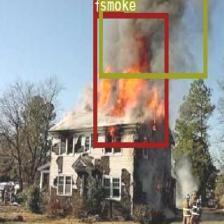fire: (92, 13, 168, 147)
smoke: (98, 0, 206, 77)
